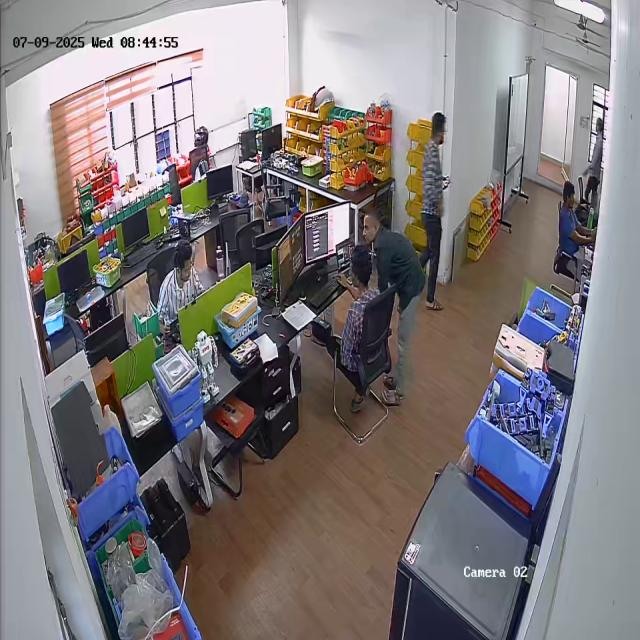person: (361, 212, 427, 419), (326, 240, 377, 388), (419, 108, 449, 315), (152, 238, 204, 321), (557, 179, 591, 261), (588, 116, 603, 202)
